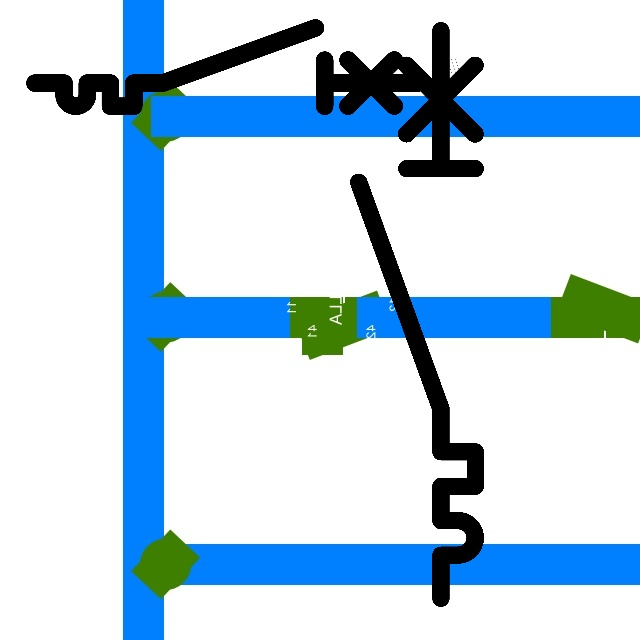interruptor_termomagnetico: (344, 16, 490, 613), (25, 18, 428, 116)
